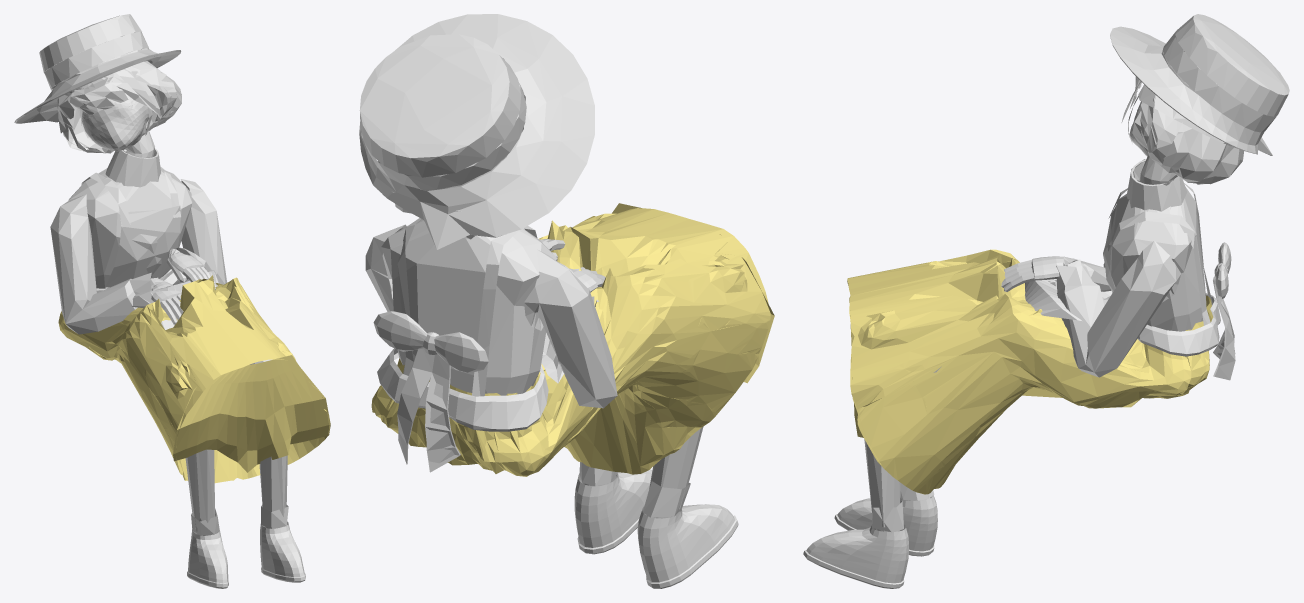
The model's file is chr_sit_static.glb.
The picture shows the model from 3 angles, left to right: view 1: azimuth 30°, elevation 25°; view 2: azimuth 150°, elevation 25°; view 3: azimuth 270°, elevation 25°; orthographic projection. The views are drawn at different scales.
Parts seen in each view (by area): view 1: LOD0_G2_BODY, LOD0_G2_DRESS, LOD0_G2_APRON; view 2: LOD0_G2_BODY, LOD0_G2_DRESS, LOD0_G2_BOW, LOD0_G2_APRON; view 3: LOD0_G2_BODY, LOD0_G2_DRESS, LOD0_G2_APRON, LOD0_G2_BOW.
Part boxes in pixels (<box>): LOD0_G2_BODY: <box>14,14,305,588</box>; LOD0_G2_DRESS: <box>58,275,330,483</box>; LOD0_G2_APRON: <box>96,269,218,329</box>; LOD0_G2_BODY: <box>359,14,738,588</box>; LOD0_G2_DRESS: <box>371,203,774,476</box>; LOD0_G2_BOW: <box>373,311,488,472</box>; LOD0_G2_APRON: <box>377,263,598,431</box>; LOD0_G2_BODY: <box>803,14,1289,588</box>; LOD0_G2_DRESS: <box>847,249,1213,494</box>; LOD0_G2_APRON: <box>933,280,1220,372</box>; LOD0_G2_BOW: <box>1213,242,1235,380</box>.
Bounding box in the file's own units: 0.4324 × 1.11 × 0.9045.
